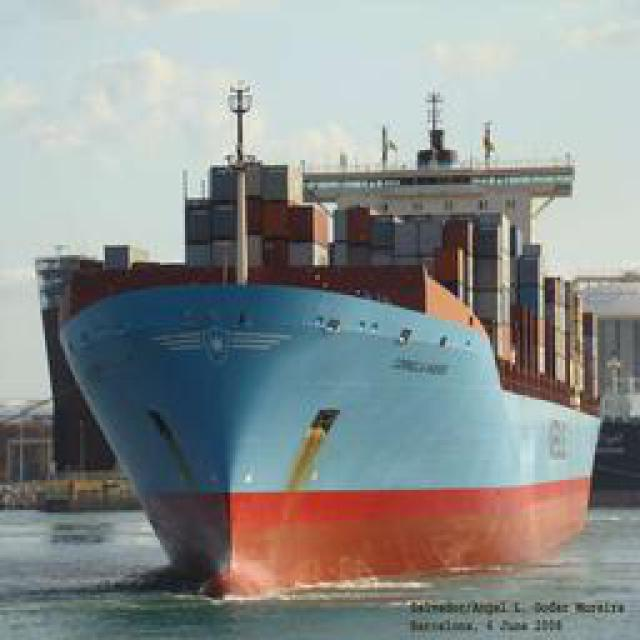Ship: (57, 263, 605, 598)
